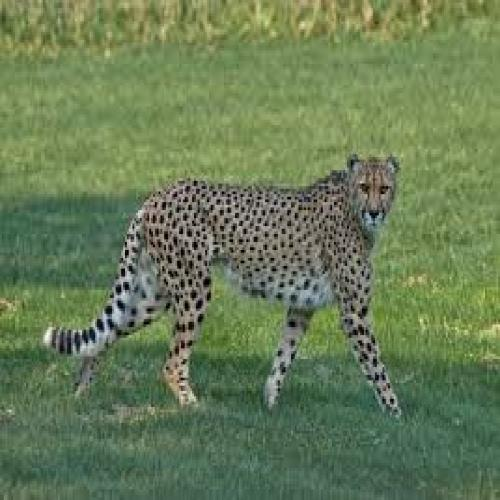cheetah-endangered: (43, 151, 399, 420)
